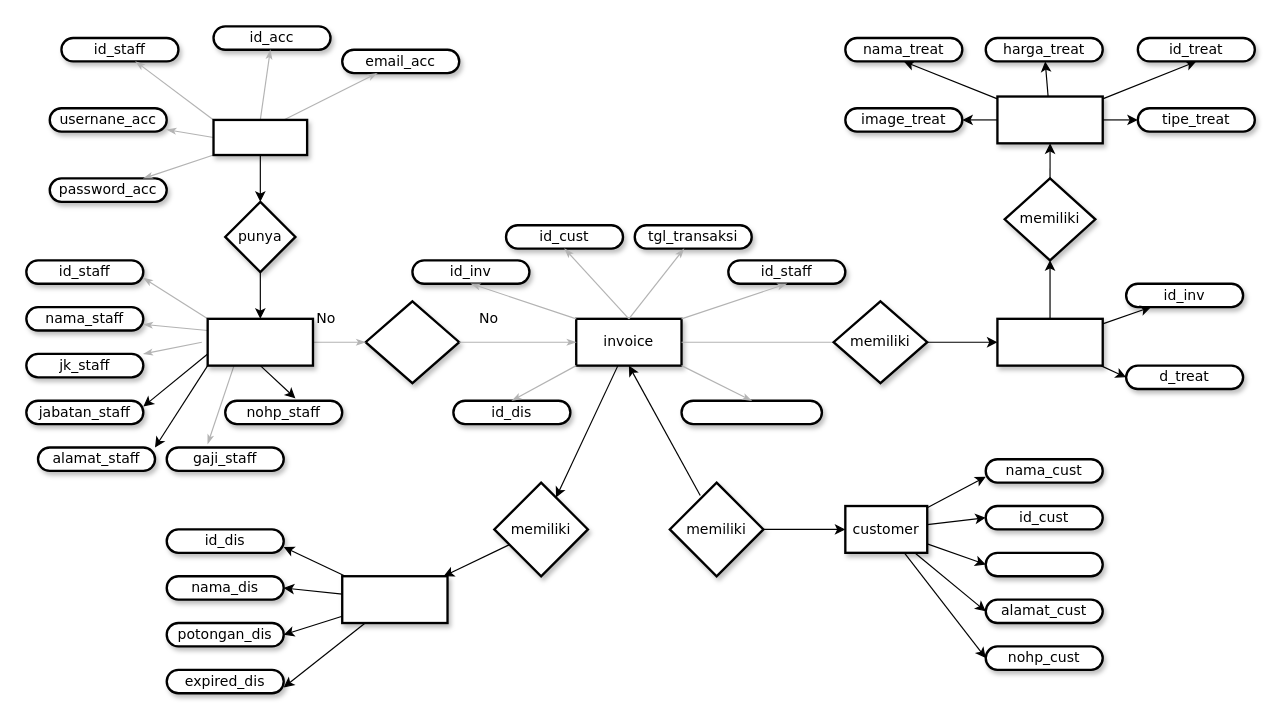
Some shapes in this 1282 by 722 pixel diagram are drawn without their labels. Each missing label, with the centre of its shape:
"account" goes at (261,138).
"diskon" goes at (395,601).
"jk_cust" goes at (1044,565).
"melakukan" goes at (413,343).
"service" goes at (1050,343).
"staff" goes at (261,343).
"tipe_pembayaran" goes at (752,413).
"treatment" goes at (1050,121).
